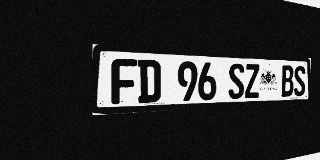6: (198, 62, 216, 101)
9: (178, 61, 197, 101)
B: (281, 65, 294, 97)
D: (138, 59, 161, 103)
F: (111, 58, 137, 104)
S: (228, 63, 244, 99), (294, 66, 305, 96)
Z: (245, 64, 259, 98)
